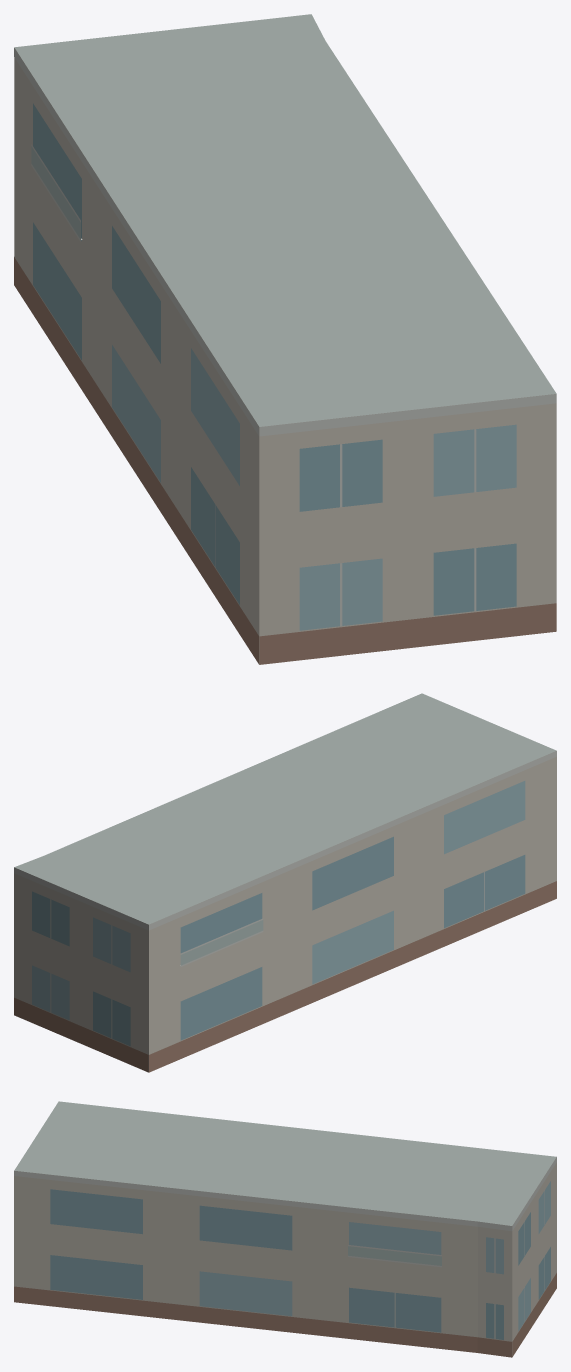
The model's file is survey-upis-32886440.glb.
3 views of the same model, one above another, from view 1: azimuth 30°, elevation 25°; view 2: azimuth 150°, elevation 25°; view 3: azimuth 270°, elevation 25° (orthographic). The views are drawn at different scales.
Visible parts, largest first — view 1: survey-upis-32886440.tmp; view 2: survey-upis-32886440.tmp; view 3: survey-upis-32886440.tmp.
Part boxes in pixels (x1,y1,x2,y2): survey-upis-32886440.tmp: (14,14,556,664); survey-upis-32886440.tmp: (14,693,556,1072); survey-upis-32886440.tmp: (14,1101,556,1357).
Size of the model in its own units: 12.42 by 6.1 by 22.83.
